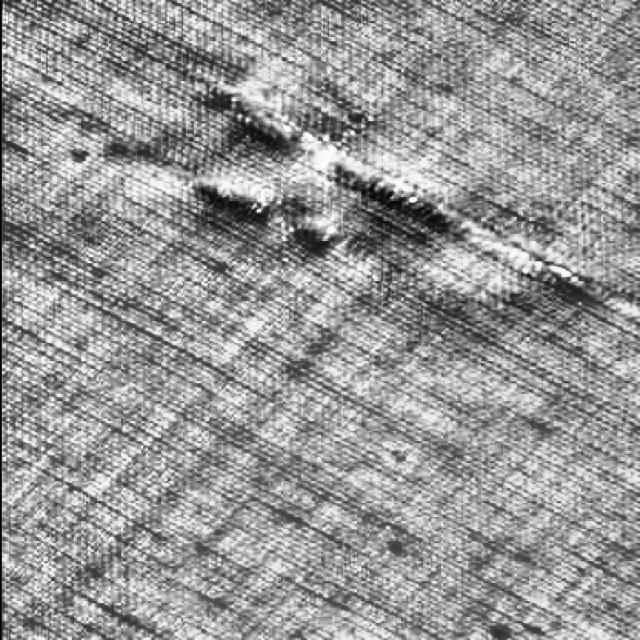thread_error: (205, 74, 640, 332), (163, 169, 386, 291)
